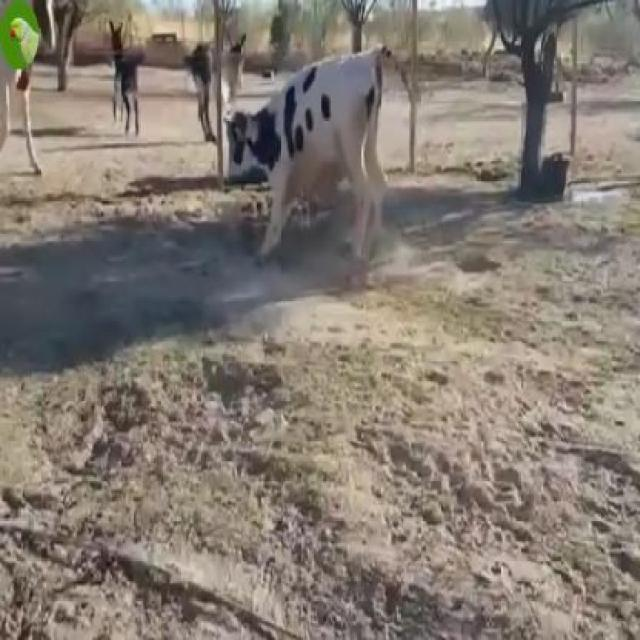Cow: (225, 43, 386, 262)
